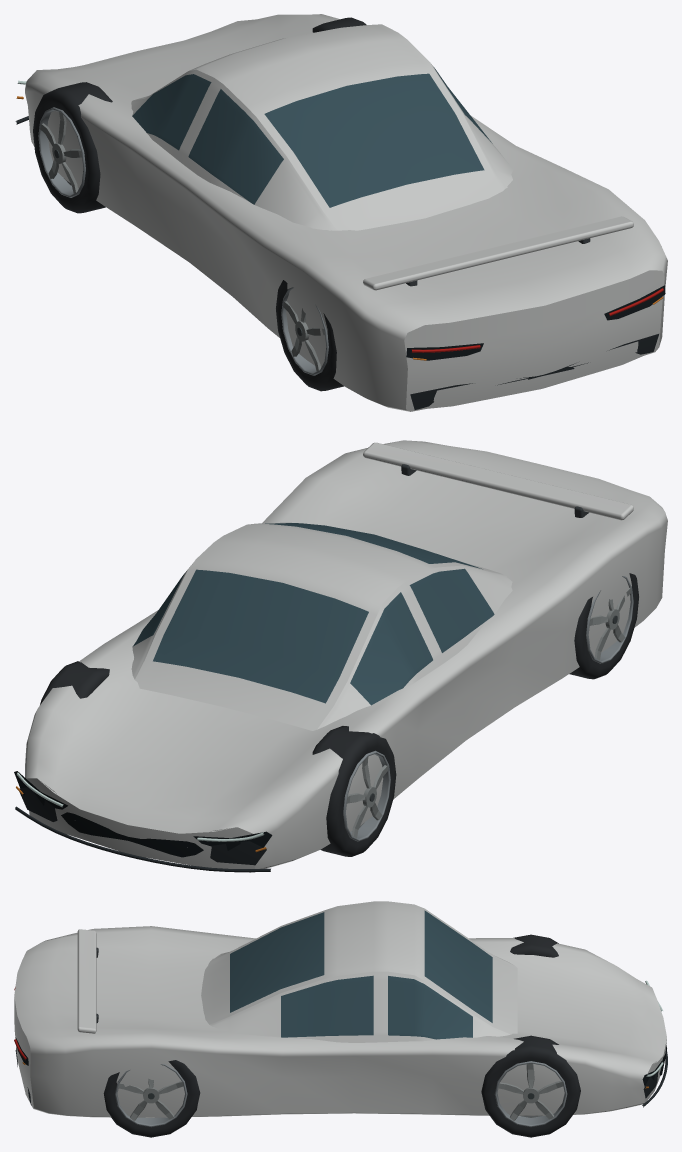
File: valente-v10-lod.glb
3 views of the same model, one above another, from view 1: azimuth 30°, elevation 25°; view 2: azimuth 150°, elevation 25°; view 3: azimuth 270°, elevation 25° (orthographic). The views are drawn at different scales.
Parts seen in each view (by area): view 1: paint, glass, wheelSurface (×2), trim; view 2: paint, glass, wheelSurface (×3), trim; view 3: paint, glass, wheelSurface (×3), trim.
Part boxes in pixels (left/top/right/bottom): paint: left=25, top=14, right=667, bottom=411; glass: left=132, top=67, right=492, bottom=207; wheelSurface (×2): left=33, top=82, right=343, bottom=391; trim: left=15, top=116, right=665, bottom=409; paint: left=25, top=440, right=667, bottom=872; glass: left=132, top=523, right=494, bottom=705; wheelSurface (×3): left=40, top=573, right=638, bottom=856; trim: left=14, top=464, right=588, bottom=872; paint: left=14, top=901, right=666, bottom=1117; glass: left=230, top=910, right=492, bottom=1039; wheelSurface (×3): left=103, top=934, right=580, bottom=1137; trim: left=15, top=947, right=667, bottom=1107.
Size of the model in its own units: 1.97 by 1.16 by 4.51.
